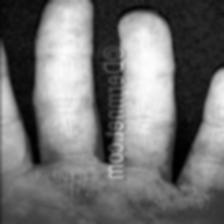Non-Cancerous Skin Condition: (44, 42, 100, 216), (136, 199, 216, 224)
